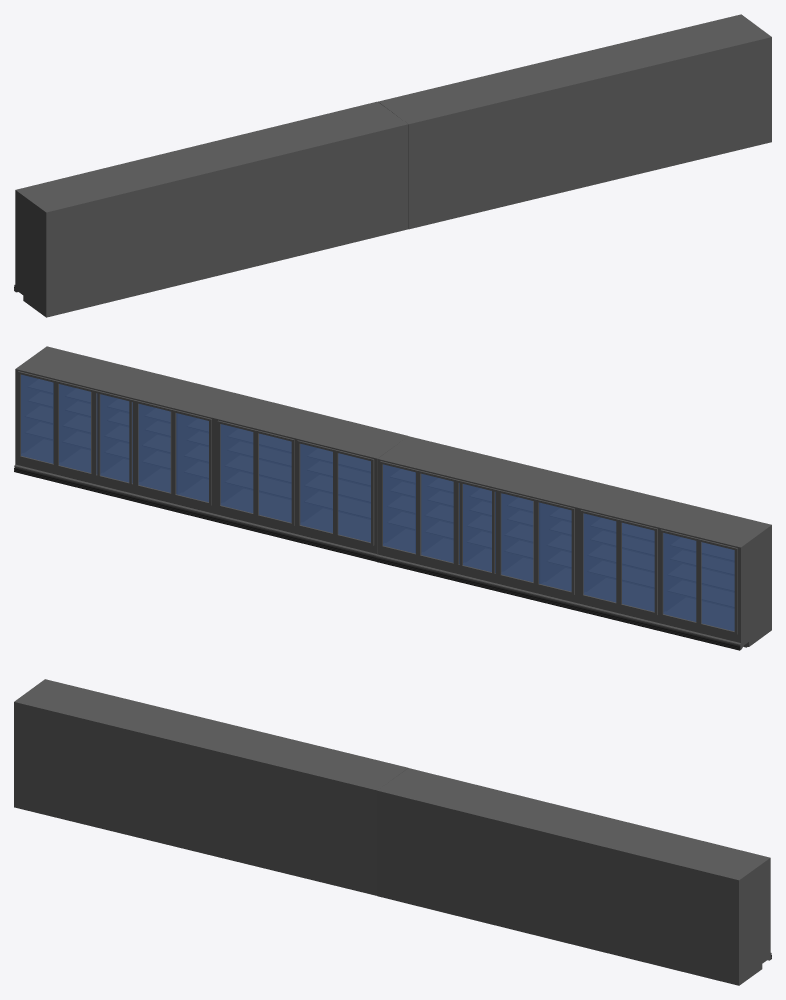
File: fridges.dae
3 renders of one model, top to bottom at view 1: azimuth 30°, elevation 25°; view 2: azimuth 150°, elevation 25°; view 3: azimuth 330°, elevation 25°, orthographic.
Parts seen in each view (by area): view 1: SketchUp (×2); view 2: SketchUp (×52); view 3: SketchUp (×2).
Boxes of the visible parts, x1,y1,x2,y2 form: SketchUp (×2): [14, 14, 771, 317]; SketchUp (×52): [14, 346, 771, 650]; SketchUp (×2): [14, 679, 771, 985].
Bounding box in the file's own units: 301 × 24.44 × 42.52.
